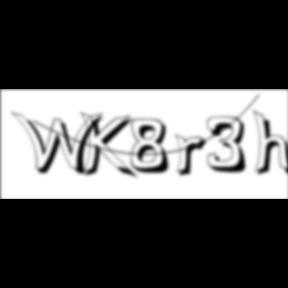3: (207, 116, 253, 176)
8: (130, 117, 176, 176)
K: (82, 110, 140, 182)
W: (11, 110, 109, 178)
r: (175, 134, 213, 180)
